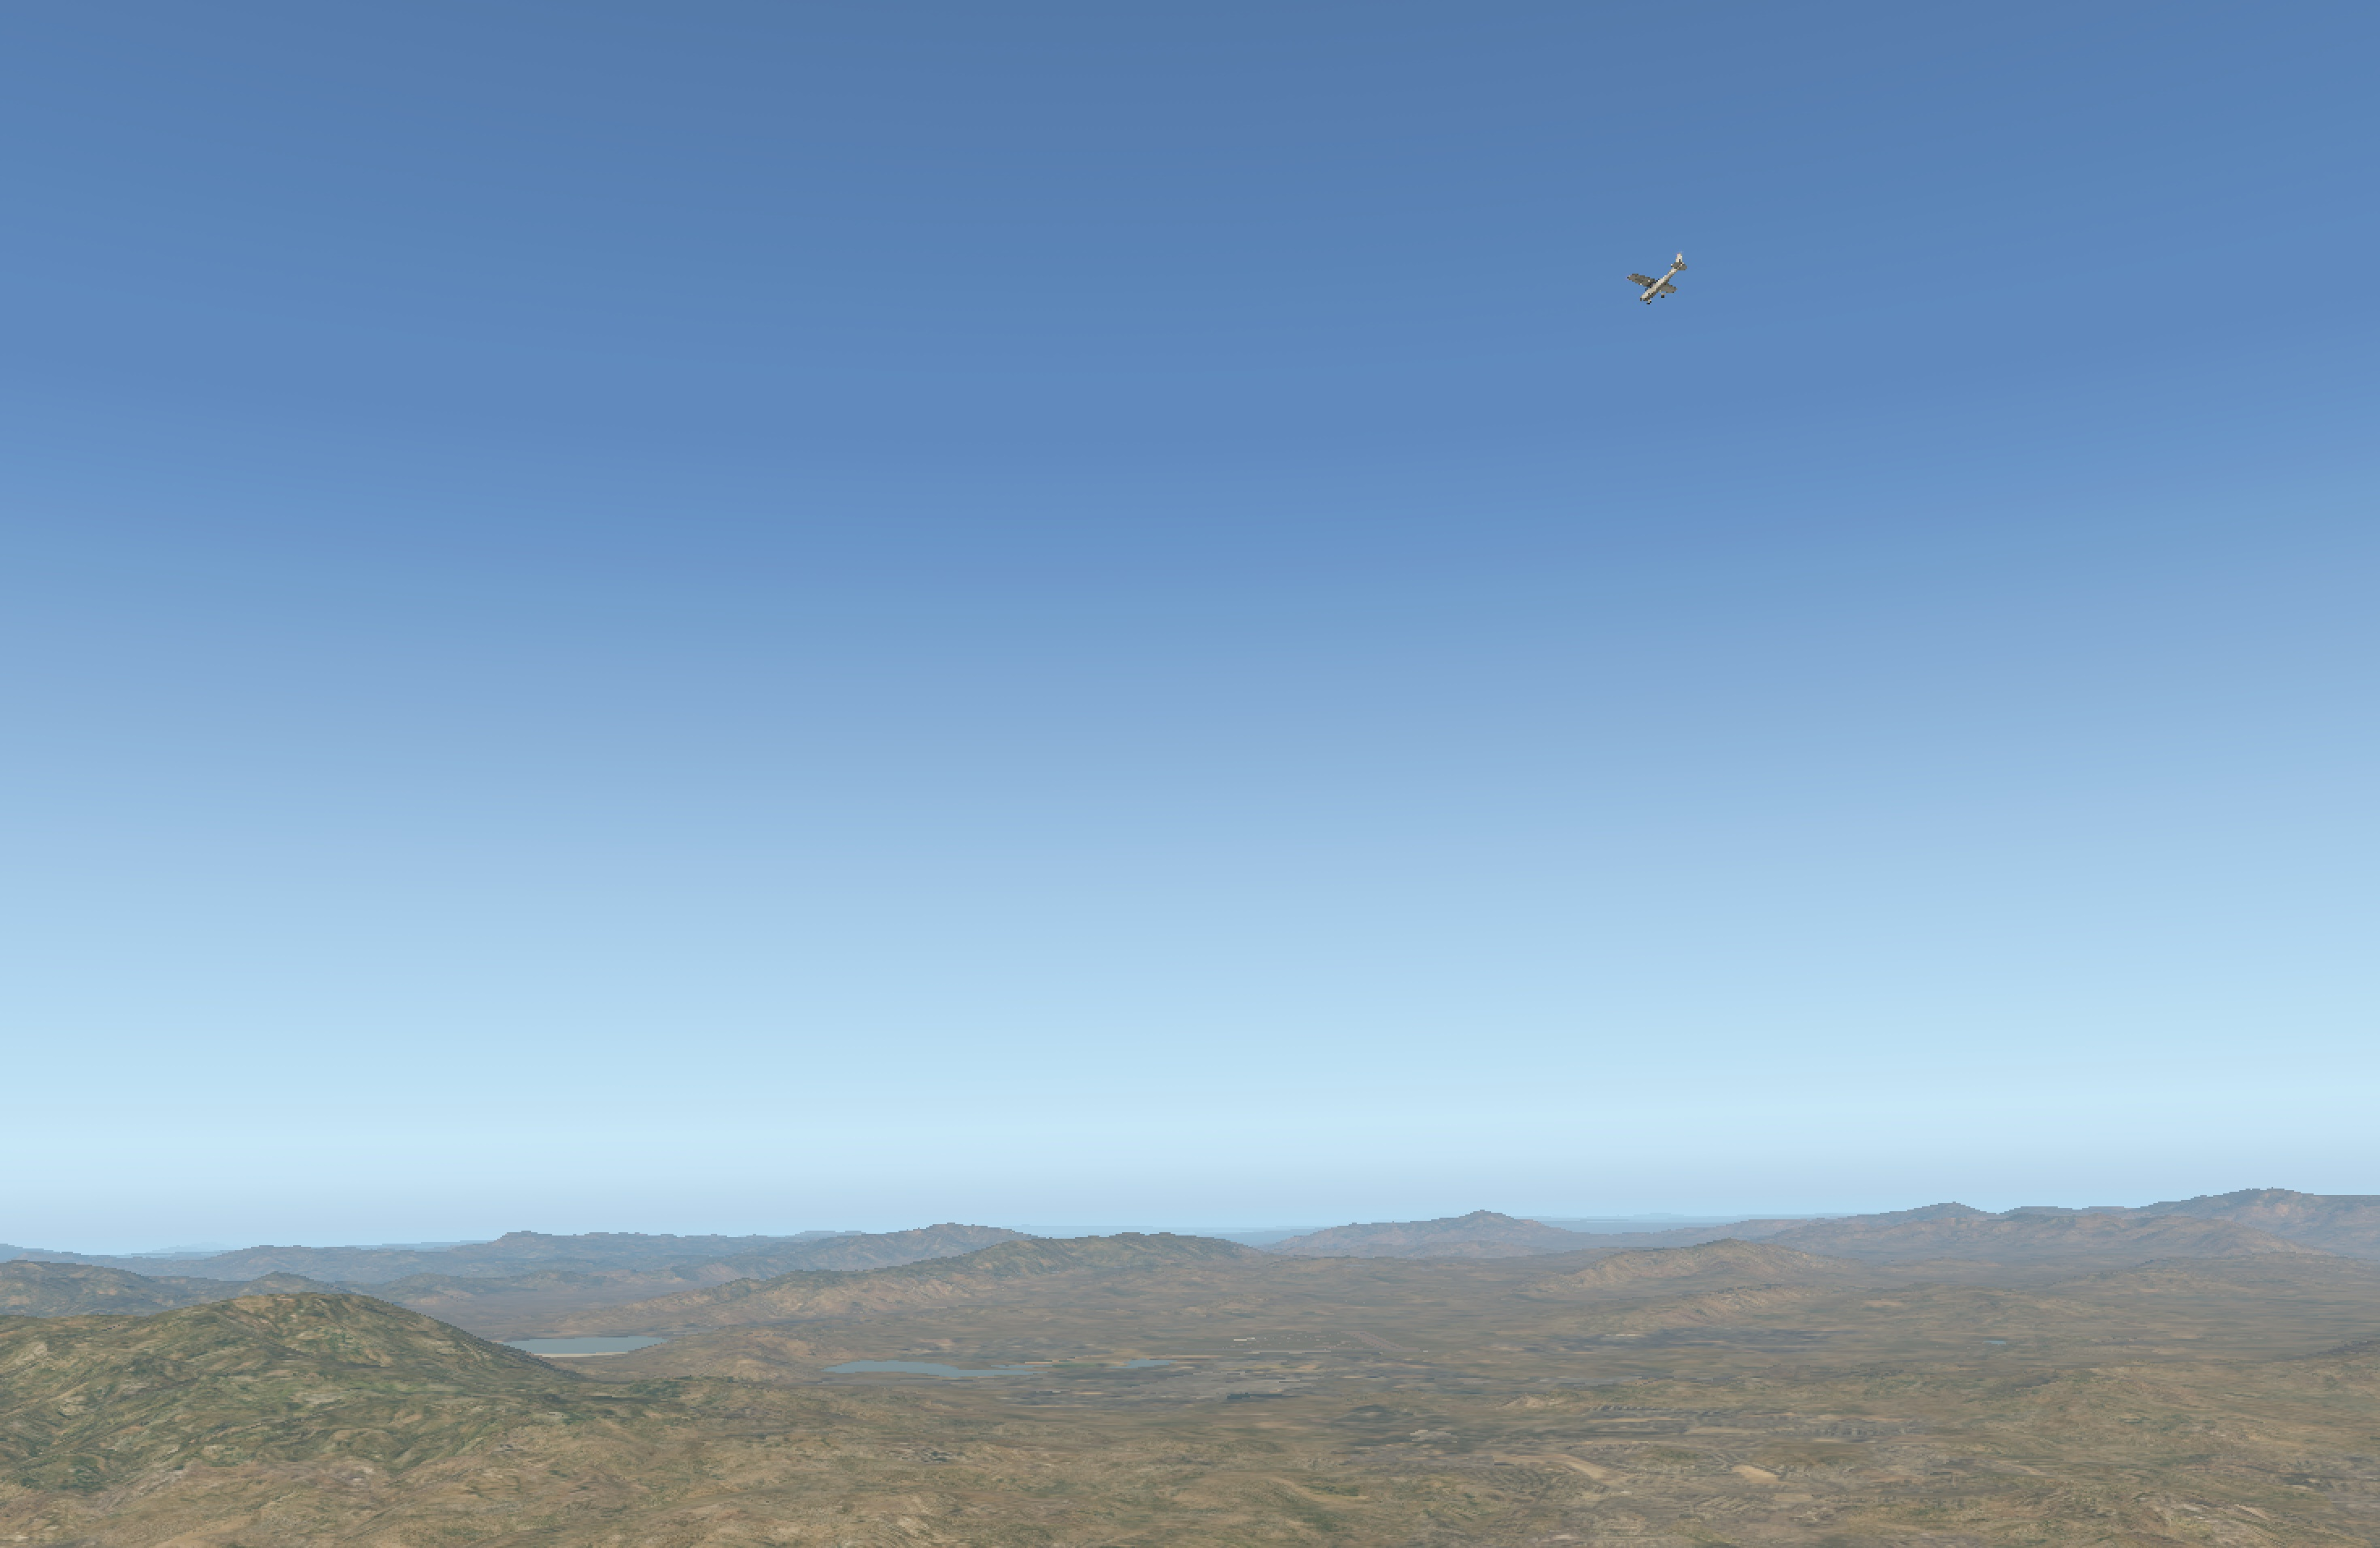aircraft: (1625, 278, 1681, 298)
